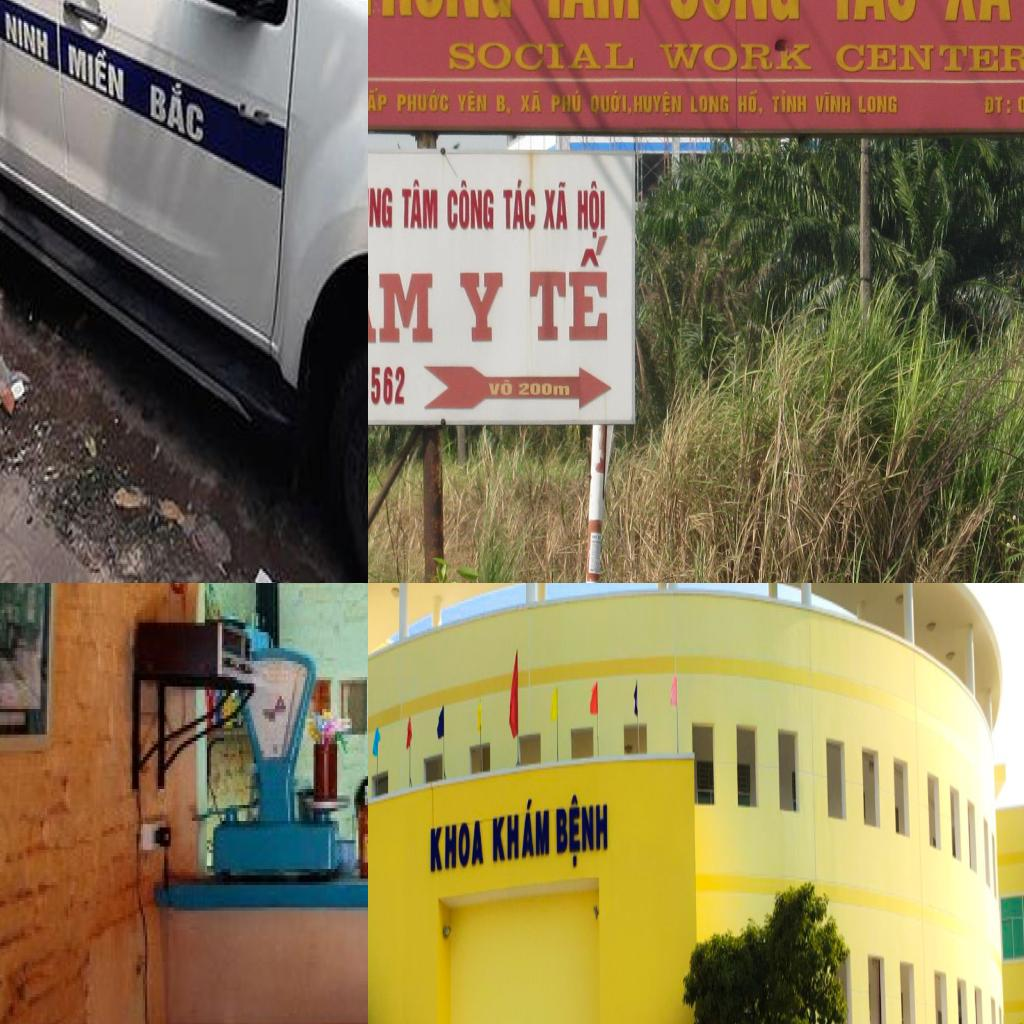text: (525, 233, 611, 349), (447, 38, 636, 74), (368, 271, 436, 356), (832, 42, 1024, 72), (655, 42, 813, 74), (148, 66, 207, 148), (67, 30, 126, 108), (555, 791, 608, 872), (368, 0, 513, 28), (492, 796, 549, 864), (458, 272, 502, 342), (430, 820, 484, 875), (444, 175, 496, 229), (4, 7, 50, 66), (823, 0, 917, 28), (539, 0, 642, 23), (498, 177, 538, 234), (398, 177, 439, 229), (574, 177, 606, 238), (941, 0, 1014, 25), (541, 178, 571, 232), (368, 365, 406, 407), (393, 88, 450, 113), (633, 93, 683, 121), (688, 93, 731, 121), (518, 379, 572, 401), (588, 92, 632, 116), (769, 90, 808, 117), (368, 184, 392, 227), (812, 90, 853, 114), (454, 88, 490, 115), (856, 93, 900, 115), (736, 88, 764, 120), (550, 90, 583, 115), (518, 87, 544, 117), (982, 95, 1013, 118), (368, 85, 388, 117), (484, 379, 516, 395), (493, 93, 513, 115)
